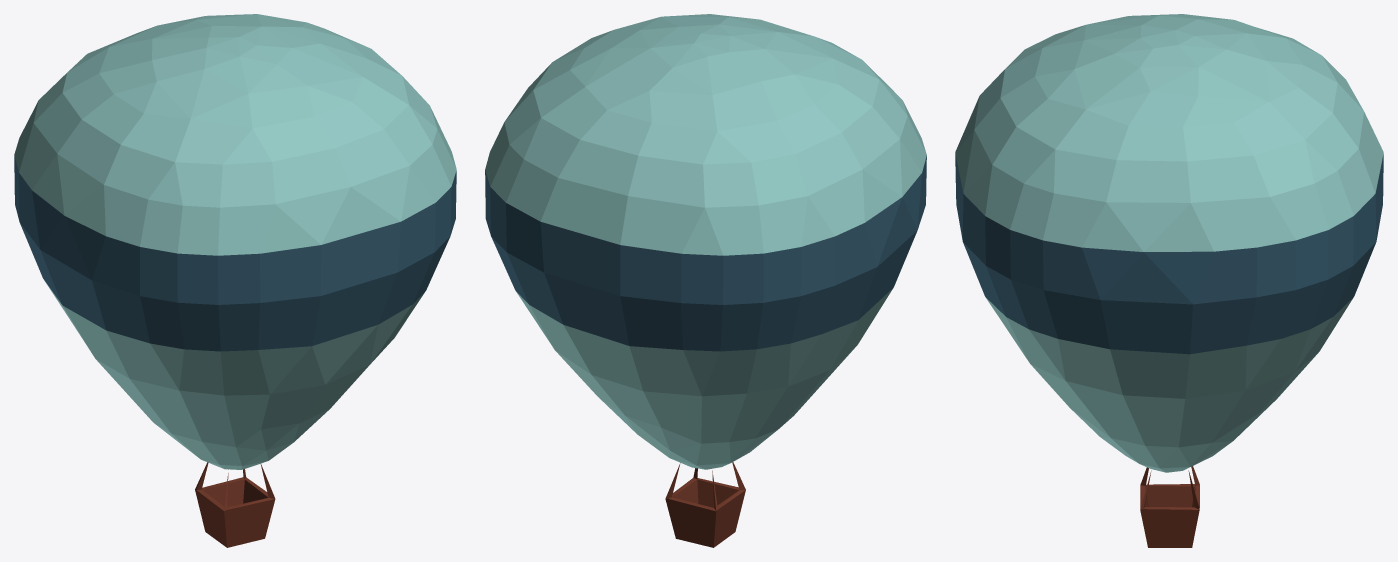
File: luftballons.fbx
The picture shows the model from 3 angles, left to right: view 1: azimuth 30°, elevation 25°; view 2: azimuth 150°, elevation 25°; view 3: azimuth 270°, elevation 25°; orthographic projection.
Visible parts, largest first — view 1: Sphere; view 2: Sphere; view 3: Sphere.
Part boxes in pixels (x1,y1,x2,y2): Sphere: (14, 14, 456, 547); Sphere: (485, 14, 926, 547); Sphere: (955, 14, 1383, 547).
Bounding box in the file's own units: 592 × 591 × 759.
